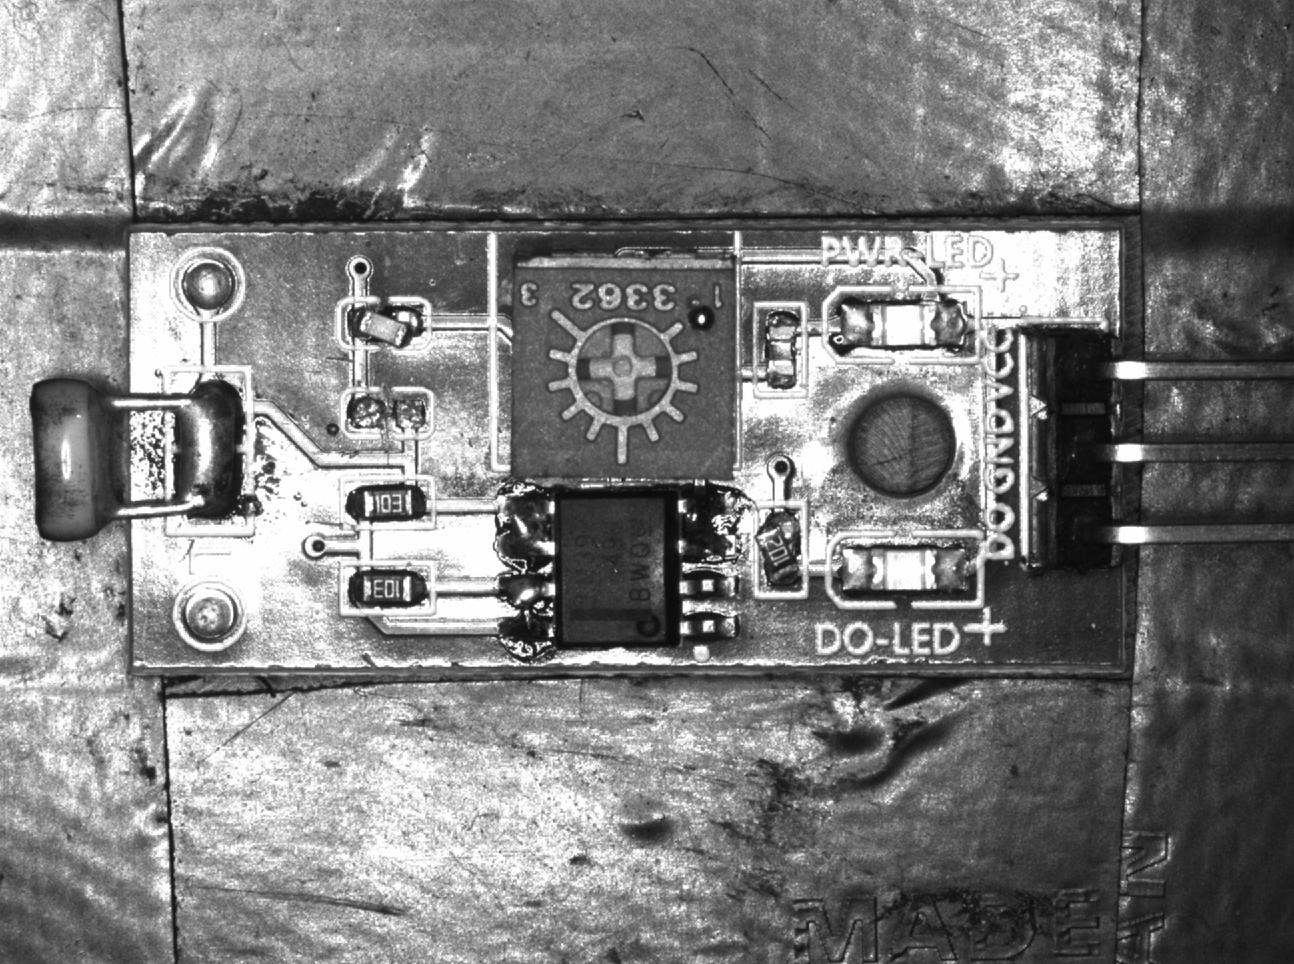bridge: (164, 364, 255, 528), (498, 485, 559, 569), (679, 486, 739, 569)
lifted: (751, 506, 806, 600), (342, 298, 434, 344)
miss: (750, 298, 807, 403), (338, 391, 435, 434)
ok: (337, 476, 438, 530), (337, 560, 436, 615)
